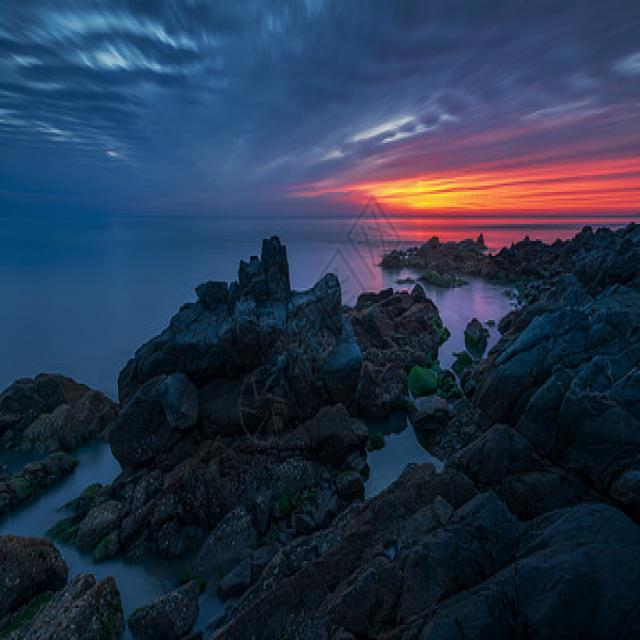reef: (86, 259, 462, 549)
